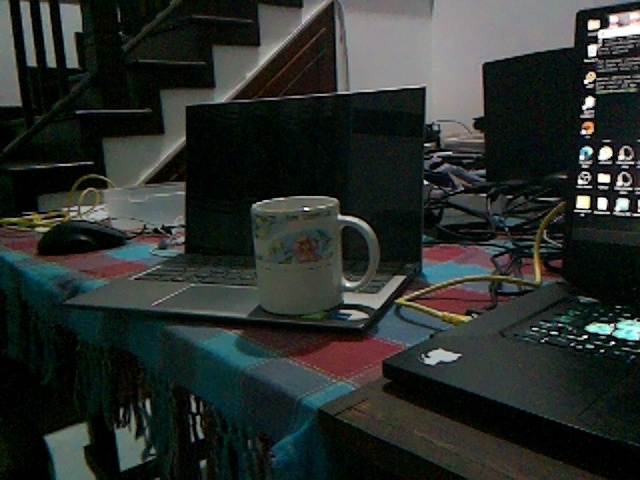mug: (247, 193, 383, 319)
